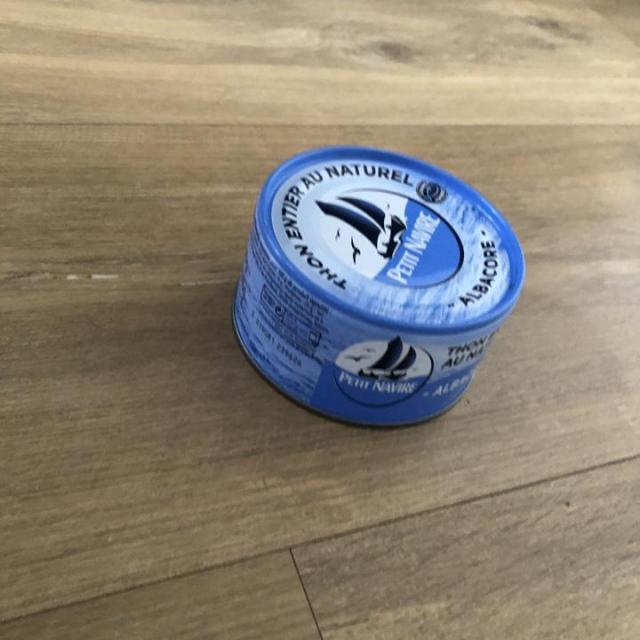recyclable: (240, 136, 542, 441)
